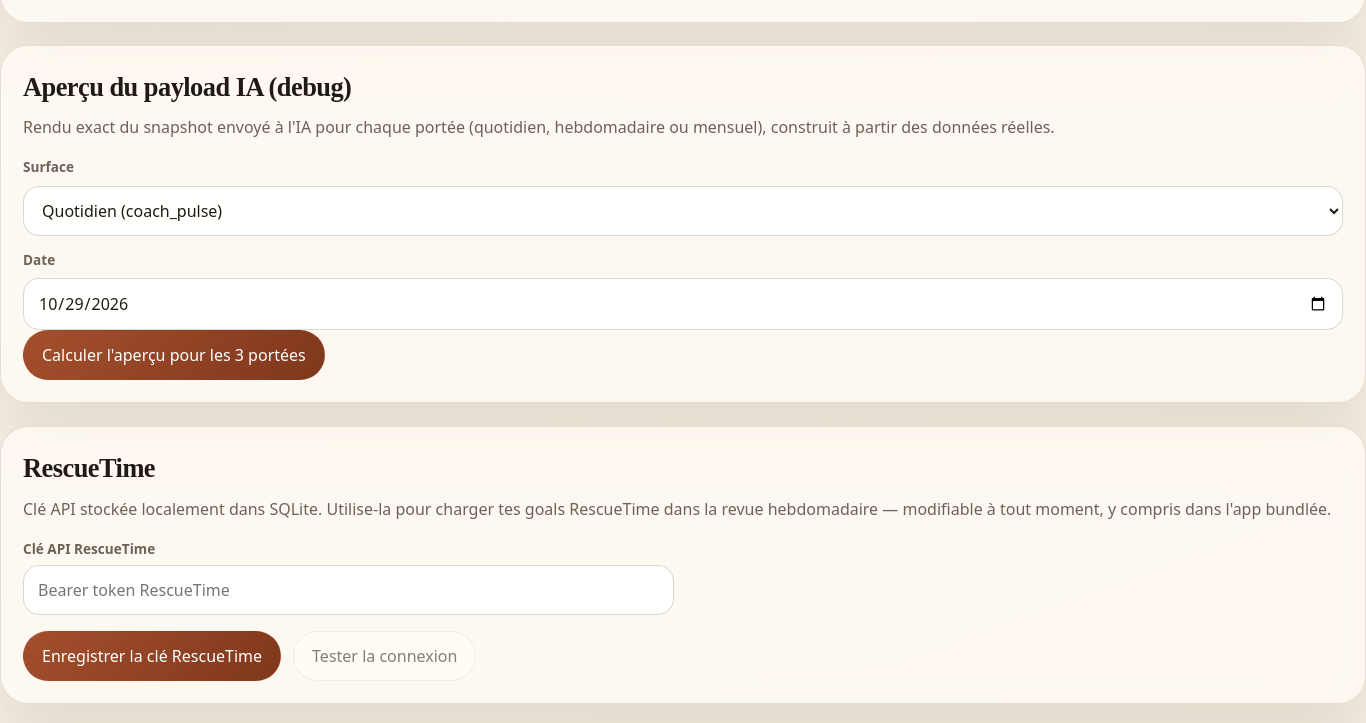
it: SettingsPage AI payload preview › renders the three scoped payload previews when debug mode is on, redacting free text at the metrics scope
(page scrolled)
Check: the heading "Aperçu du payload IA (debug)" is shown, box [23, 72, 351, 102]
Click the button "Calculer l'aperçu pour les 3 portées": (174, 356) [23, 331, 325, 381]
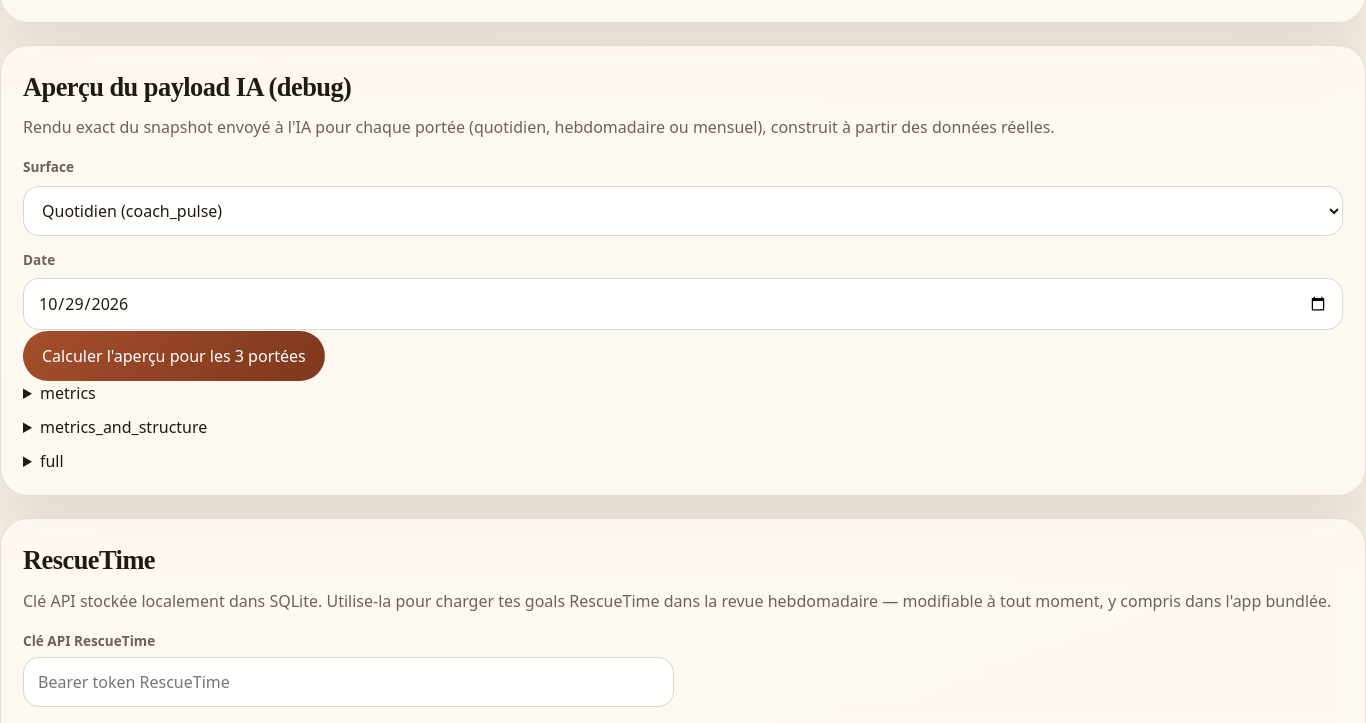
Check: the heading "metrics" is shown, box [40, 382, 96, 404]
Check: the heading "metrics_and_structure" is shown, box [40, 416, 207, 438]
